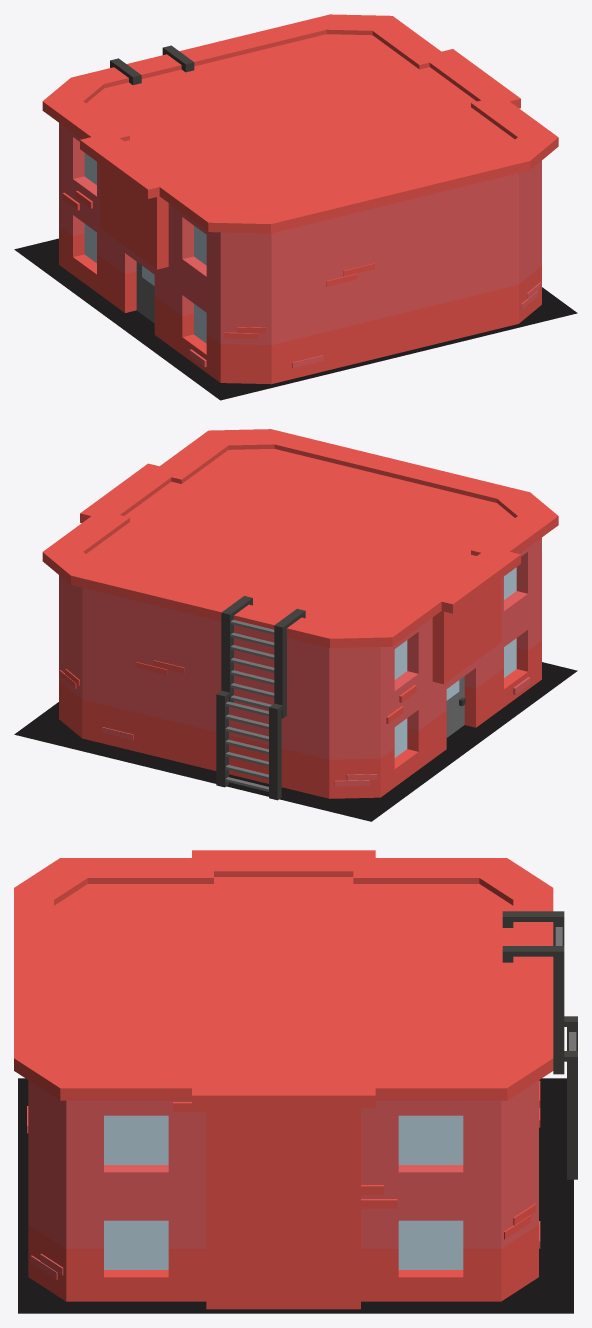
Rendered from Tile 65_Combined.fbx.
3 views of the same model, one above another, from view 1: azimuth 30°, elevation 25°; view 2: azimuth 150°, elevation 25°; view 3: azimuth 270°, elevation 25° (orthographic). The views are drawn at different scales.
Parts seen in each view (by area): view 1: MeshBaker_mesh_mesh; view 2: MeshBaker_mesh_mesh; view 3: MeshBaker_mesh_mesh.
Boxes of the visible parts, <box> form: MeshBaker_mesh_mesh: <box>14,14,577,400</box>; MeshBaker_mesh_mesh: <box>14,429,577,821</box>; MeshBaker_mesh_mesh: <box>14,850,577,1313</box>.
Size of the model in its own units: 3129 by 1356 by 3041.
